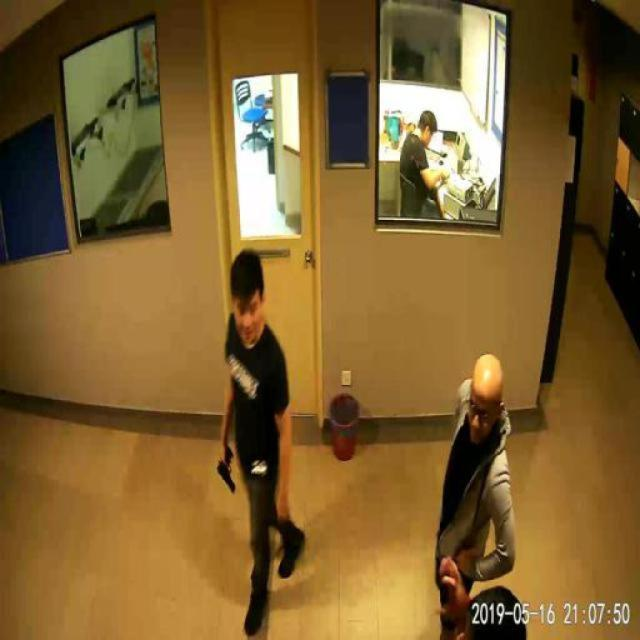pistol: (215, 445, 234, 490)
